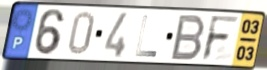0: (66, 10, 96, 57)
4: (102, 10, 130, 60)
6: (32, 8, 66, 57)
B: (169, 13, 208, 61)
F: (199, 14, 242, 63)
L: (133, 13, 159, 58)
